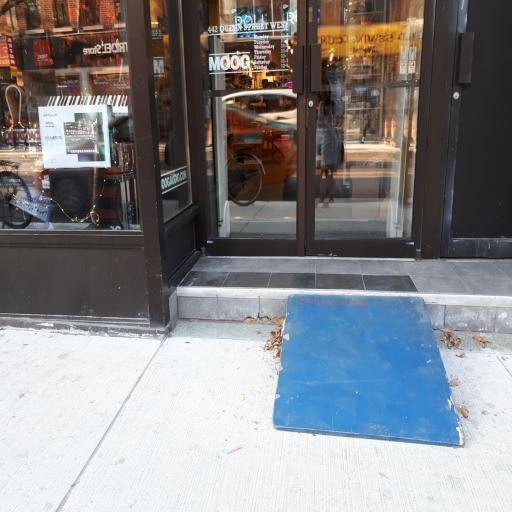ramp: (272, 294, 465, 444)
